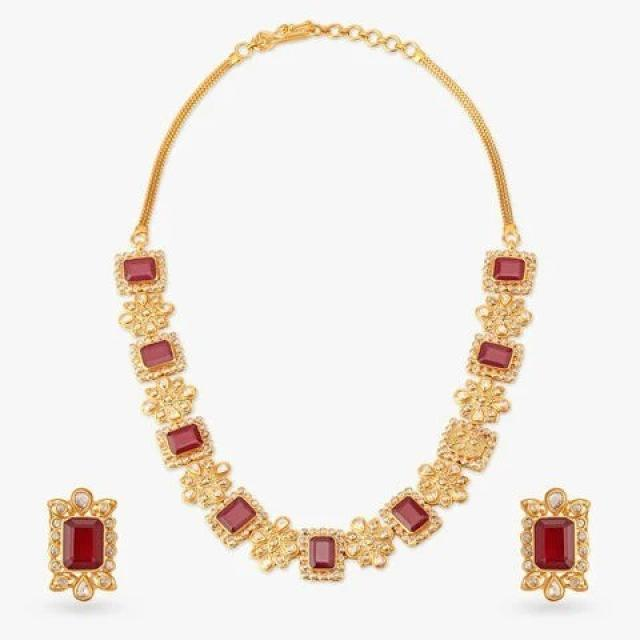missing gem: (446, 425, 487, 459)
